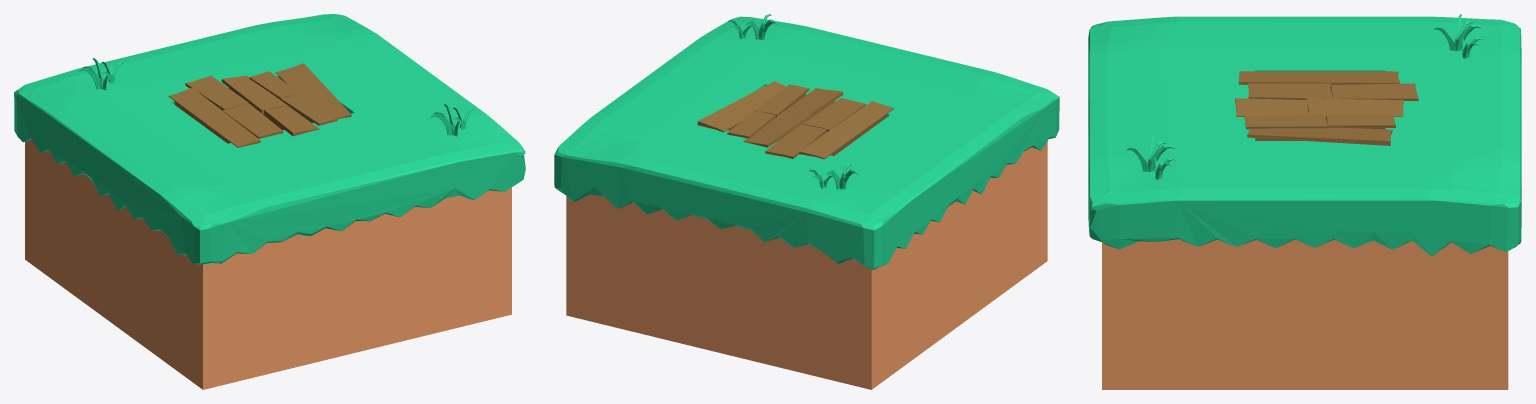
File: trapdoor.fbx
The picture shows the model from 3 angles, left to right: view 1: azimuth 30°, elevation 25°; view 2: azimuth 150°, elevation 25°; view 3: azimuth 270°, elevation 25°; orthographic projection. The views are drawn at different scales.
Visible parts, largest first — view 1: Cube.004, Cube.003, Cube.006, Cube.010, Cube.012, Cube.008, Cube.007, Cube.011, Cube.013, Cube.009, Plane.001, Plane.004; view 2: Cube.004, Cube.003, Cube.006, Cube.010, Cube.012, Cube.007, Cube.008, Cube.011, Cube.013, Cube.009, Plane.004, Plane.001; view 3: Cube.004, Cube.003, Cube.006, Cube.010, Cube.012, Cube.007, Cube.008, Cube.011, Cube.013, Cube.009, Plane.004, Plane.001.
Boxes of the visible parts, x1=… form: Cube.004: x1=14, y1=14, x2=525, y2=264; Cube.003: x1=25, y1=140, x2=511, y2=389; Cube.006: x1=168, y1=87, x2=260, y2=147; Cube.010: x1=275, y1=63, x2=351, y2=118; Cube.012: x1=221, y1=75, x2=287, y2=114; Cube.008: x1=222, y1=103, x2=283, y2=138; Cube.007: x1=185, y1=76, x2=248, y2=110; Cube.011: x1=263, y1=106, x2=319, y2=136; Cube.013: x1=280, y1=92, x2=337, y2=125; Cube.009: x1=249, y1=71, x2=298, y2=99; Plane.001: x1=79, y1=58, x2=122, y2=90; Plane.004: x1=430, y1=104, x2=474, y2=136; Cube.004: x1=554, y1=16, x2=1059, y2=269; Cube.003: x1=566, y1=141, x2=1047, y2=389; Cube.006: x1=799, y1=101, x2=893, y2=159; Cube.010: x1=697, y1=81, x2=786, y2=132; Cube.012: x1=743, y1=111, x2=811, y2=147; Cube.007: x1=765, y1=124, x2=826, y2=158; Cube.008: x1=803, y1=98, x2=865, y2=131; Cube.011: x1=785, y1=88, x2=843, y2=116; Cube.013: x1=755, y1=84, x2=809, y2=116; Cube.009: x1=727, y1=110, x2=775, y2=138; Plane.004: x1=728, y1=14, x2=777, y2=39; Plane.001: x1=809, y1=164, x2=858, y2=189; Cube.004: x1=1088, y1=16, x2=1521, y2=256; Cube.003: x1=1102, y1=89, x2=1508, y2=389; Cube.006: x1=1238, y1=71, x2=1400, y2=88; Cube.010: x1=1247, y1=127, x2=1392, y2=145; Cube.012: x1=1307, y1=98, x2=1403, y2=120; Cube.007: x1=1331, y1=83, x2=1418, y2=100; Cube.008: x1=1248, y1=83, x2=1331, y2=99; Cube.011: x1=1235, y1=98, x2=1307, y2=116; Cube.013: x1=1244, y1=114, x2=1327, y2=129; Cube.009: x1=1326, y1=113, x2=1395, y2=129; Plane.004: x1=1127, y1=134, x2=1175, y2=179; Plane.001: x1=1434, y1=14, x2=1482, y2=58.
Bounding box in the file's own units: 426 × 244 × 426.
